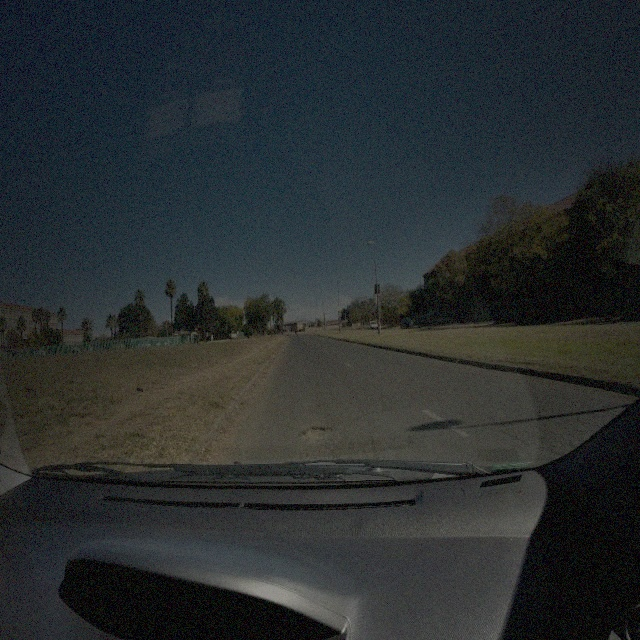pothole: (297, 422, 333, 441)
